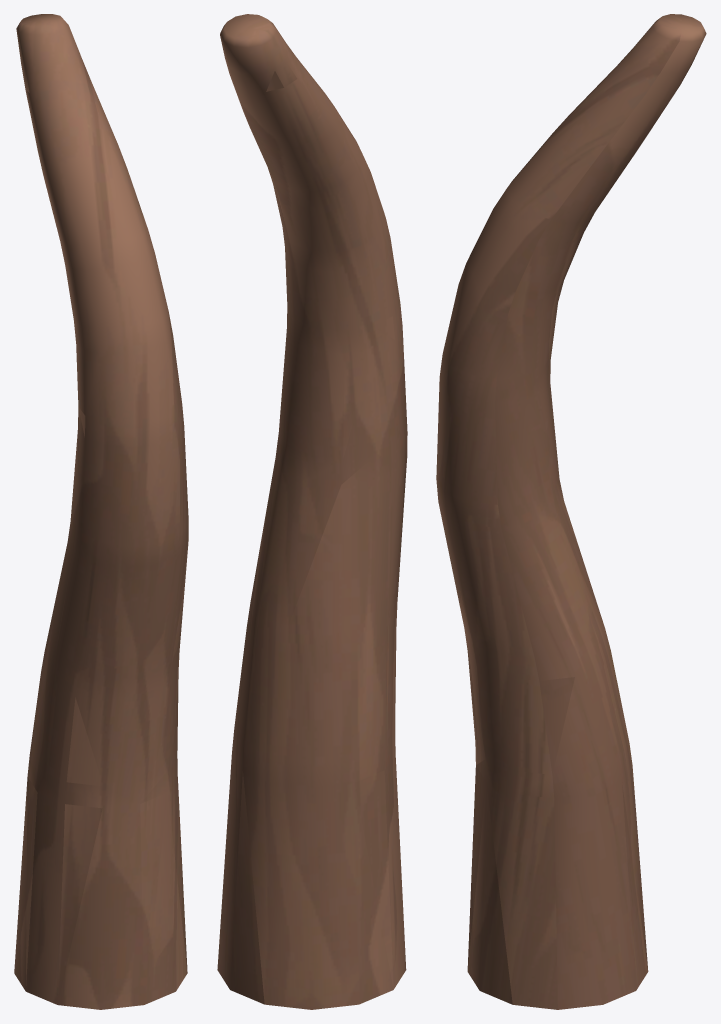
File: Tree_Root.FBX
3 views of the same model, side by side, from view 1: azimuth 30°, elevation 25°; view 2: azimuth 150°, elevation 25°; view 3: azimuth 270°, elevation 25° (orthographic). The views are drawn at different scales.
Parts seen in each view (by area): view 1: caveroom_root01; view 2: caveroom_root01; view 3: caveroom_root01.
Boxes of the visible parts, <box> form: caveroom_root01: <box>14,14,188,1009</box>; caveroom_root01: <box>217,14,407,1009</box>; caveroom_root01: <box>436,14,706,1009</box>.
Size of the model in its own units: 235 by 1364 by 351.
